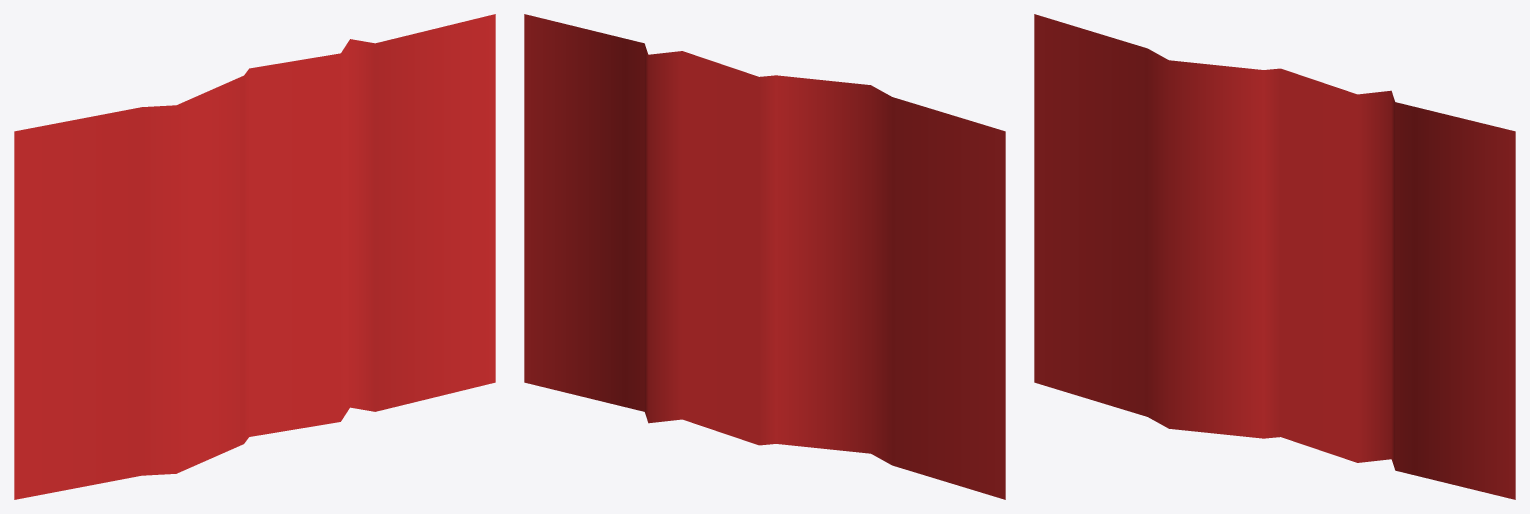
File: Curtain_02_001.fbx
3 views of the same model, side by side, from view 1: azimuth 30°, elevation 25°; view 2: azimuth 150°, elevation 25°; view 3: azimuth 330°, elevation 25° (orthographic).
Parts seen in each view (by area): view 1: Curtains01_002; view 2: Curtains01_002; view 3: Curtains01_002.
Boxes of the visible parts, x1,y1,x2,y2 form: Curtains01_002: [14, 14, 495, 499]; Curtains01_002: [524, 14, 1005, 499]; Curtains01_002: [1034, 14, 1515, 499].
Size of the model in its own units: 211 by 154 by 18.56.
